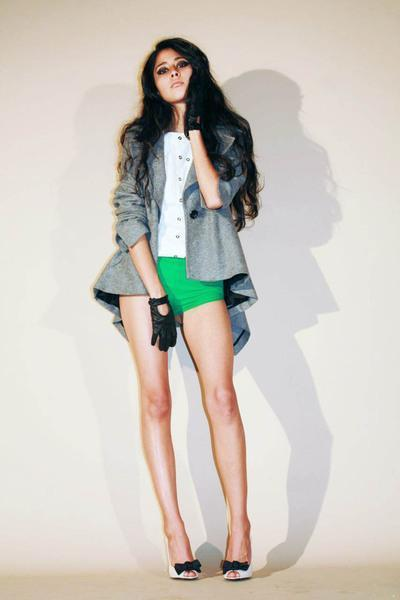jacket: (93, 108, 257, 347)
shirt: (158, 133, 192, 257)
shoe: (172, 540, 261, 581)
shorts: (157, 256, 222, 323)
